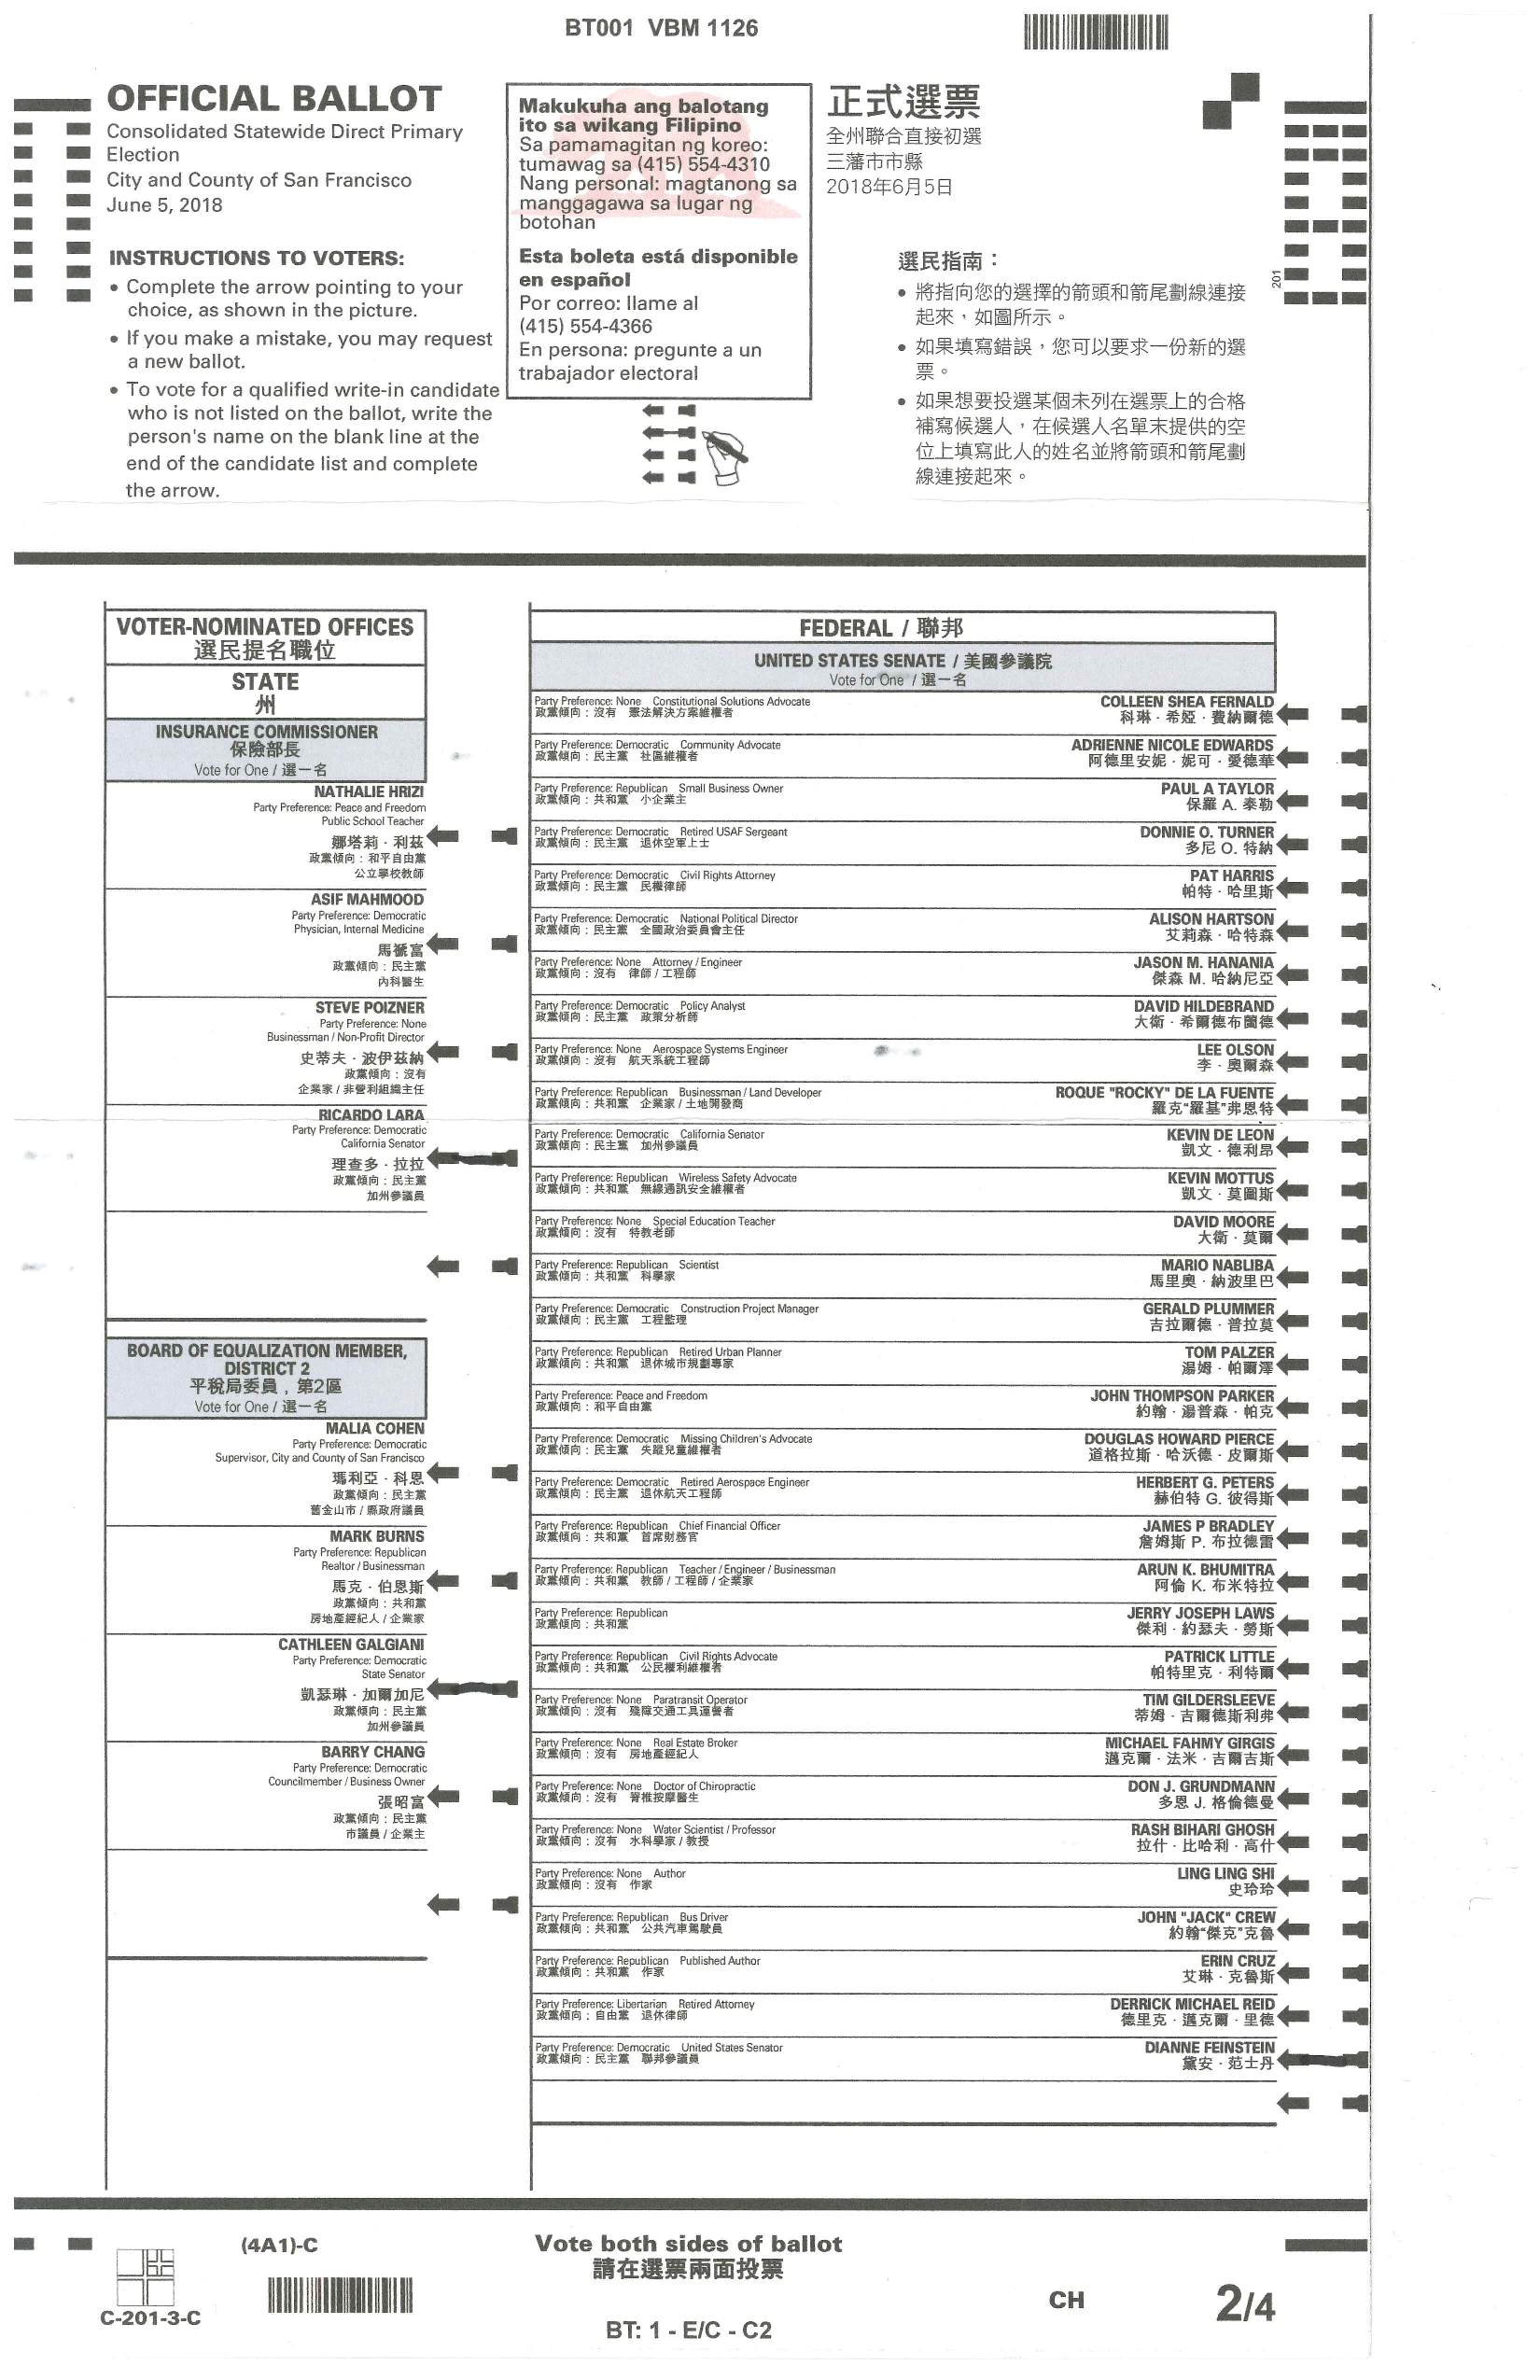marked: (425, 1143, 524, 1174), (1278, 2047, 1370, 2076), (425, 1677, 520, 1700)
unmarked: (425, 923, 522, 956), (1276, 871, 1368, 902), (1276, 699, 1370, 729), (420, 1891, 524, 1917), (1276, 1308, 1370, 1336), (425, 1462, 522, 1488), (1276, 1093, 1367, 1119), (425, 826, 520, 850), (1276, 1568, 1368, 1592), (1278, 1785, 1368, 1809)
